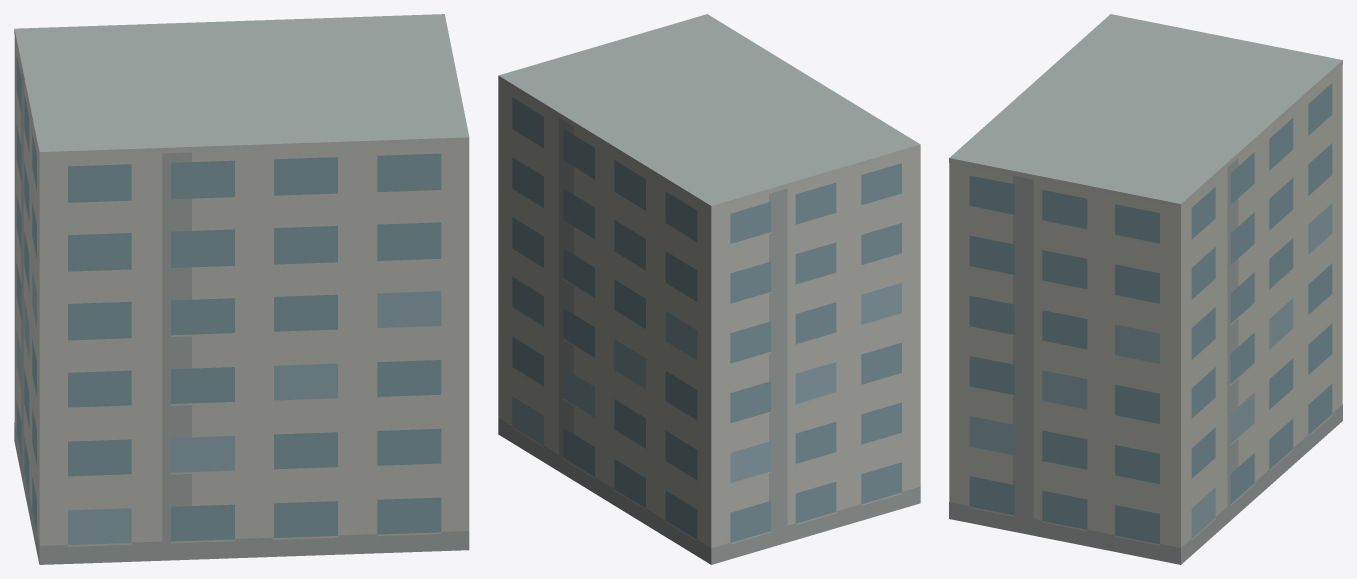
File: survey-upis-32553333.glb
3 views of the same model, side by side, from view 1: azimuth 30°, elevation 25°; view 2: azimuth 150°, elevation 25°; view 3: azimuth 270°, elevation 25° (orthographic). The views are drawn at different scales.
Visible parts, largest first — view 1: survey-upis-32553333.tmp; view 2: survey-upis-32553333.tmp; view 3: survey-upis-32553333.tmp.
Boxes of the visible parts, x1,y1,x2,y2 form: survey-upis-32553333.tmp: (14,14,469,564); survey-upis-32553333.tmp: (498,14,920,564); survey-upis-32553333.tmp: (949,14,1342,564).
Bounding box in the file's own units: 20.68 × 18.3 × 18.1.
